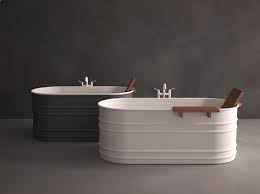bathub: (95, 95, 240, 165), (30, 83, 136, 143)
